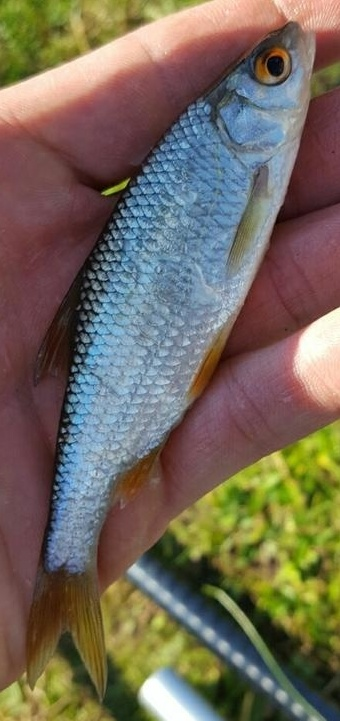Rutilus rutilus: (20, 20, 320, 701)
